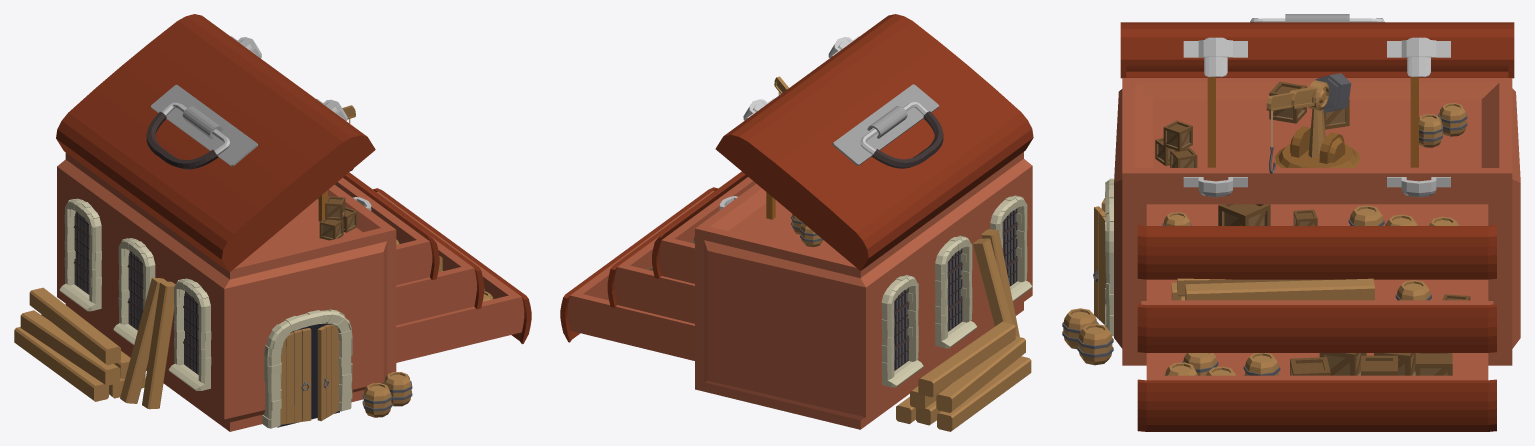
Rendered from Warehouse.glb.
3 views of the same model, side by side, from view 1: azimuth 30°, elevation 25°; view 2: azimuth 150°, elevation 25°; view 3: azimuth 270°, elevation 25° (orthographic). The views are drawn at different scales.
Visible parts, largest first — view 1: Warehouse; view 2: Warehouse; view 3: Warehouse, Filled_Low, Filled_Middle, Filled_Top.
Part boxes in pixels (<box>): Warehouse: <box>14,14,531,431</box>; Warehouse: <box>560,14,1033,431</box>; Warehouse: <box>1062,14,1520,431</box>; Filled_Low: <box>1164,353,1452,375</box>; Filled_Middle: <box>1171,278,1470,300</box>; Filled_Top: <box>1162,204,1459,225</box>.
Bounding box in the file's own units: 4.59 × 3.1 × 4.02.
Materials: 1 (1 with a texture image).
